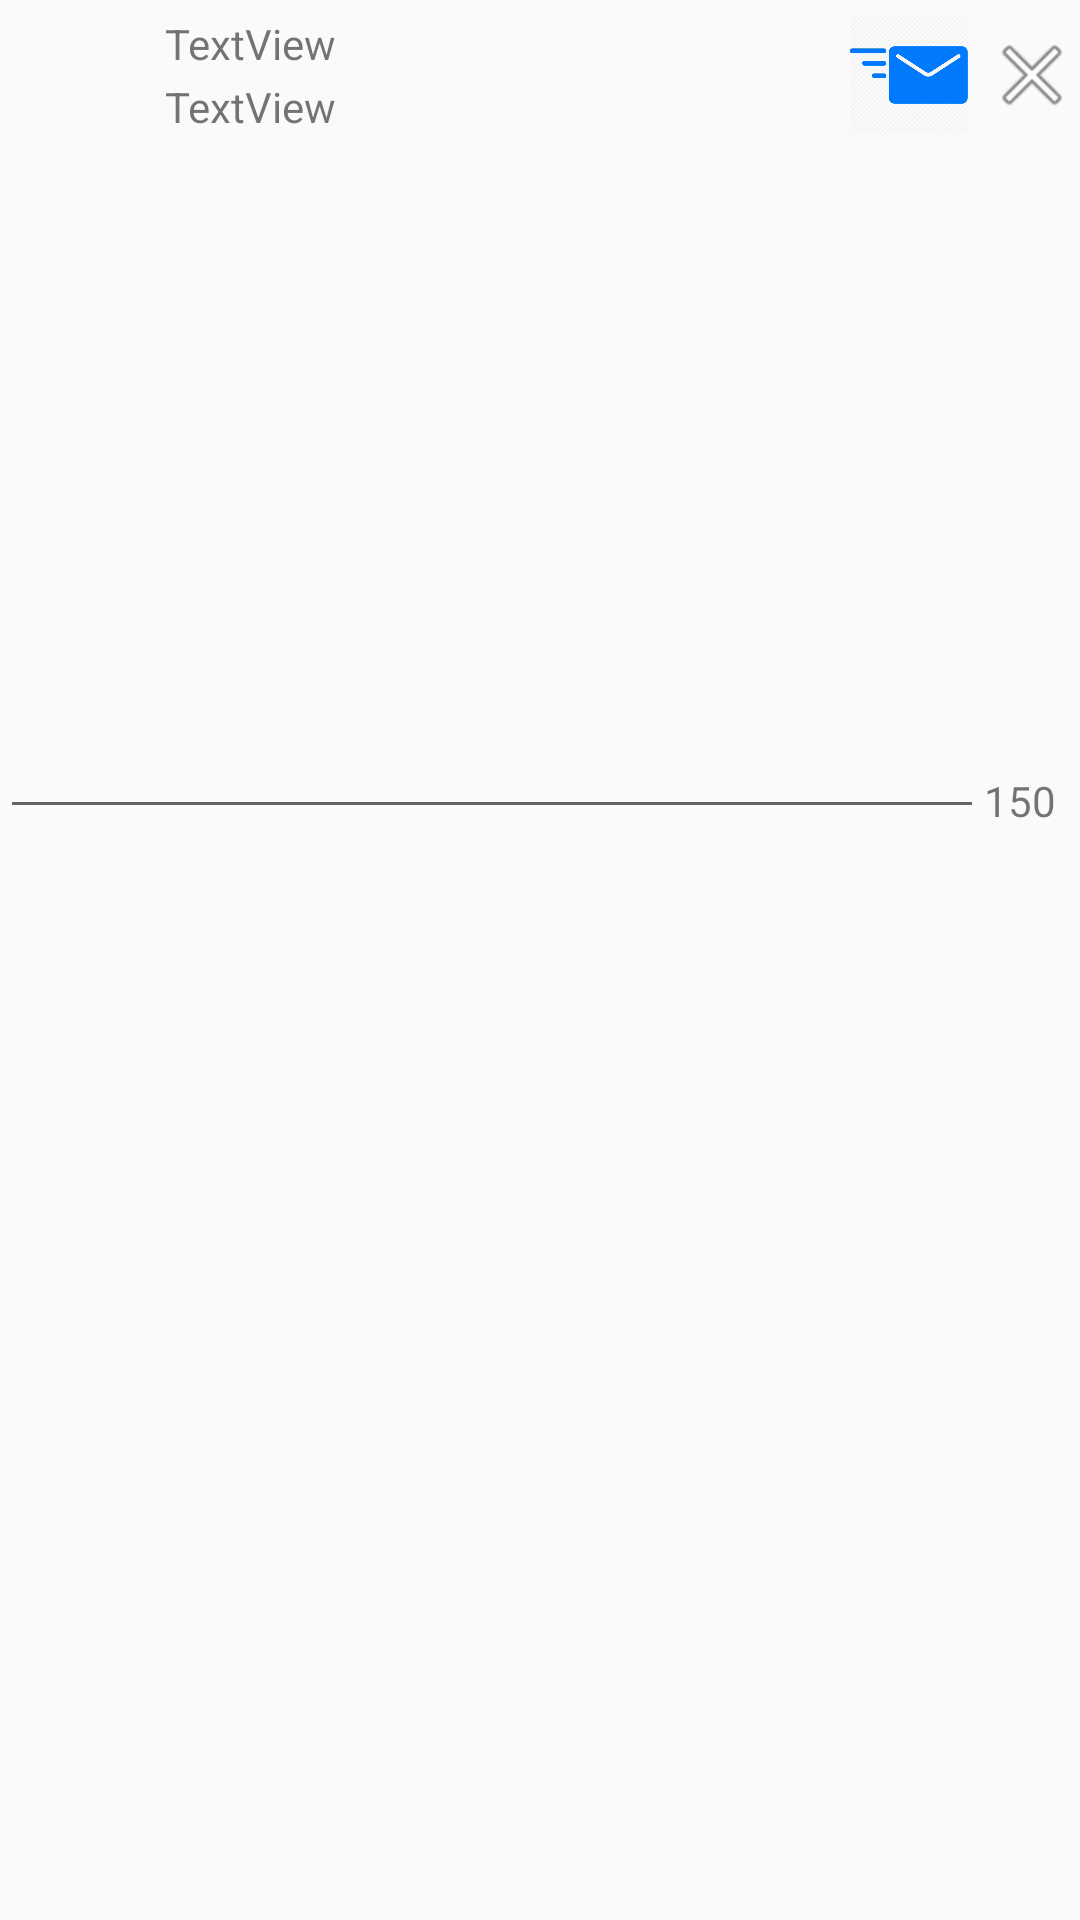

Screen size 1080 x 1920. Icon name, then its center in pixels as (x=x, y=y):
close clear cancel: (x=1032, y=75)
send mail: (x=909, y=75)
